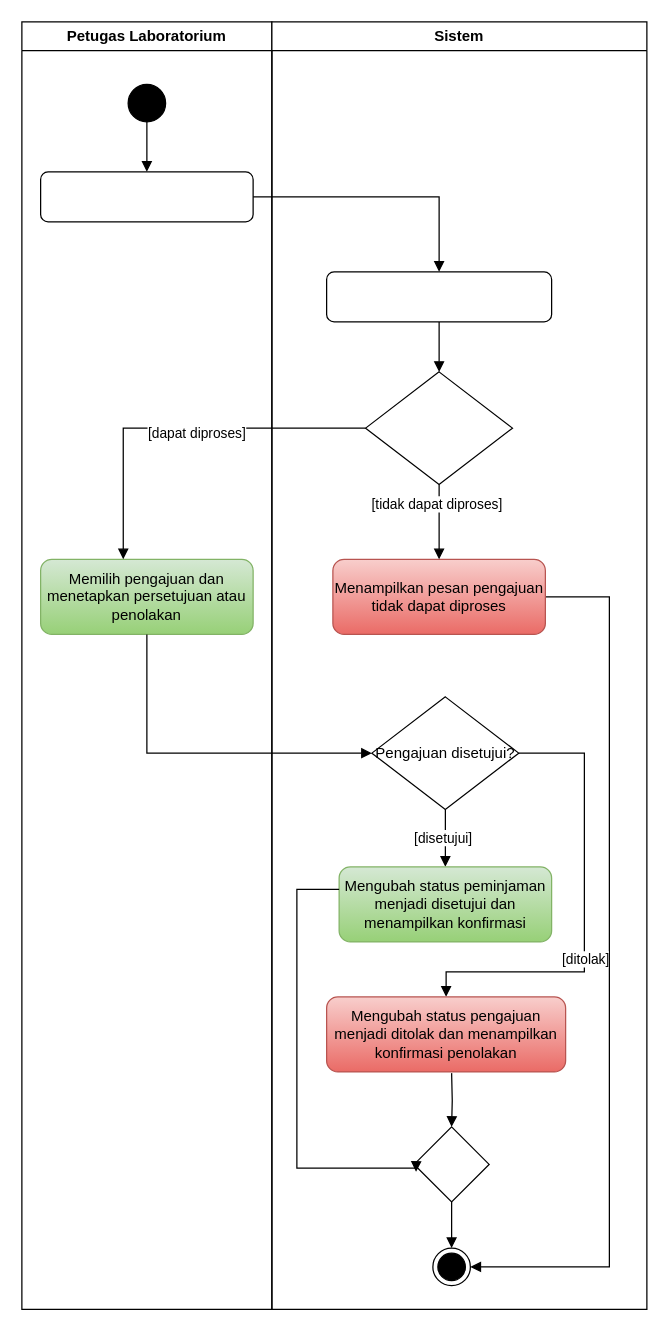
This 669x1331 diagram has some shape labels left out. The centre of each missing label's shape, as x and y in pixels:
"Membuka daftar pengajuan yang berstatus menunggu keputusan" belongs at (146,196).
"Menampilkan daftar pengajuan yang berstatus menunggu keputusan" belongs at (438,296).
"Pengajuan dapat diprosess?" belongs at (438,427).
